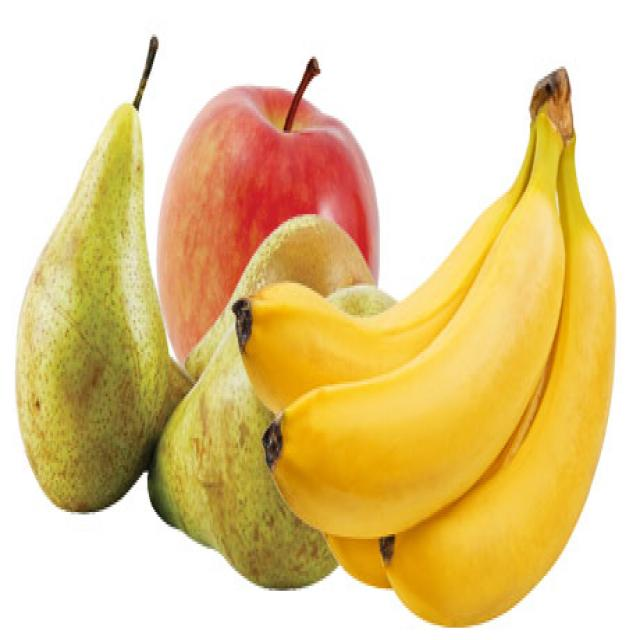apple: (145, 68, 389, 374)
banana: (254, 104, 620, 585)
pear: (166, 216, 378, 579), (13, 87, 174, 520)
